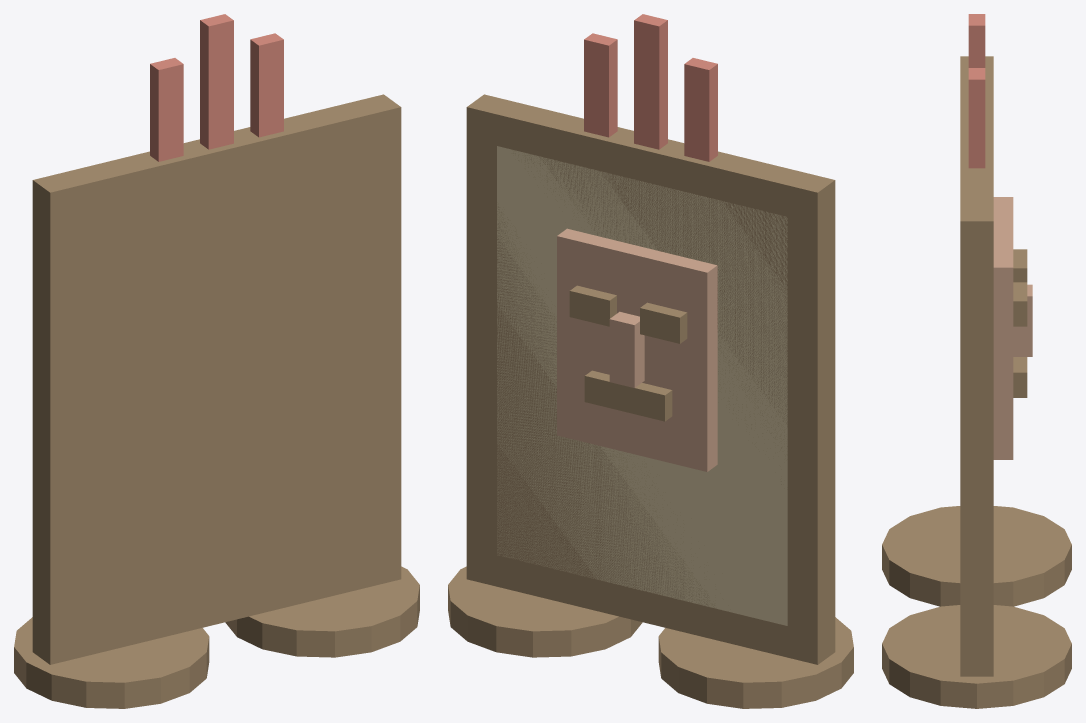
The model's file is 18-Casas_cuadro_ancestral.glb.
The picture shows the model from 3 angles, left to right: view 1: azimuth 30°, elevation 25°; view 2: azimuth 150°, elevation 25°; view 3: azimuth 270°, elevation 25°; orthographic projection. The views are drawn at different scales.
Parts seen in each view (by area): view 1: SM_Cuadro_M_Mueble_Madera_Oscura, SM_Cuadro_M_Mueble_Tela_Roja; view 2: SM_Cuadro_M_Mueble_Madera_Oscura, SM_Cuadro_M_Mueble_Paja, SM_Cuadro_M_Mueble_Barro, SM_Cuadro_M_Mueble_Tela_Roja, SM_Cuadro_M_Mueble_Madera_Oscura_Mueble_Barro; view 3: SM_Cuadro_M_Mueble_Madera_Oscura, SM_Cuadro_M_Mueble_Barro, SM_Cuadro_M_Mueble_Tela_Roja, SM_Cuadro_M_Mueble_Madera_Oscura_Mueble_Barro.
Part boxes in pixels (x1,y1,x2,y2): SM_Cuadro_M_Mueble_Madera_Oscura: (14, 94, 419, 708); SM_Cuadro_M_Mueble_Tela_Roja: (150, 14, 283, 161); SM_Cuadro_M_Mueble_Madera_Oscura: (448, 94, 853, 708); SM_Cuadro_M_Mueble_Paja: (497, 146, 787, 625); SM_Cuadro_M_Mueble_Barro: (557, 228, 717, 471); SM_Cuadro_M_Mueble_Tela_Roja: (584, 14, 717, 161); SM_Cuadro_M_Mueble_Madera_Oscura_Mueble_Barro: (569, 285, 687, 421); SM_Cuadro_M_Mueble_Madera_Oscura: (882, 56, 1071, 708); SM_Cuadro_M_Mueble_Barro: (993, 197, 1013, 459); SM_Cuadro_M_Mueble_Tela_Roja: (968, 14, 985, 168); SM_Cuadro_M_Mueble_Madera_Oscura_Mueble_Barro: (1013, 249, 1032, 397).
Bounding box in the file's own units: 0.76 × 1.19 × 0.34.
